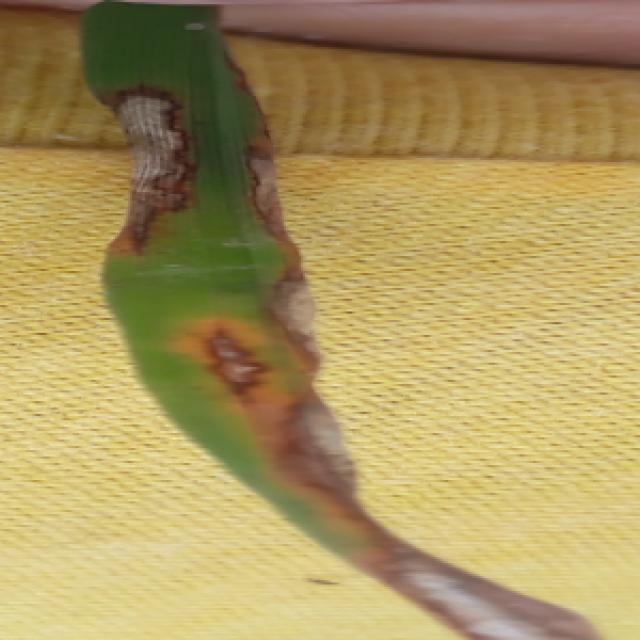Blast: (264, 406, 340, 470), (445, 601, 550, 640), (198, 333, 264, 388), (243, 150, 280, 230), (130, 128, 188, 179), (268, 282, 312, 340), (382, 561, 461, 593), (130, 184, 169, 244), (113, 96, 186, 126), (309, 474, 354, 506), (226, 58, 245, 90)
